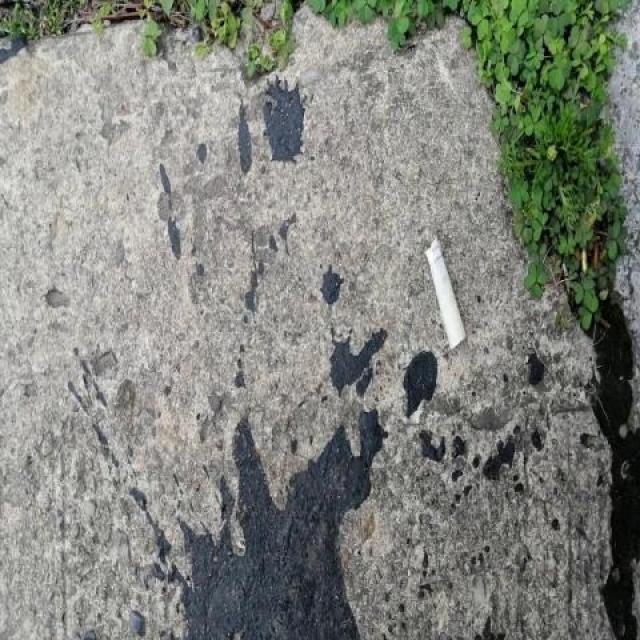non-organic waste: (423, 233, 468, 355)
